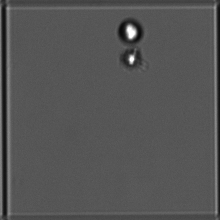Living Cell: (114, 15, 153, 46), (115, 46, 151, 76)
